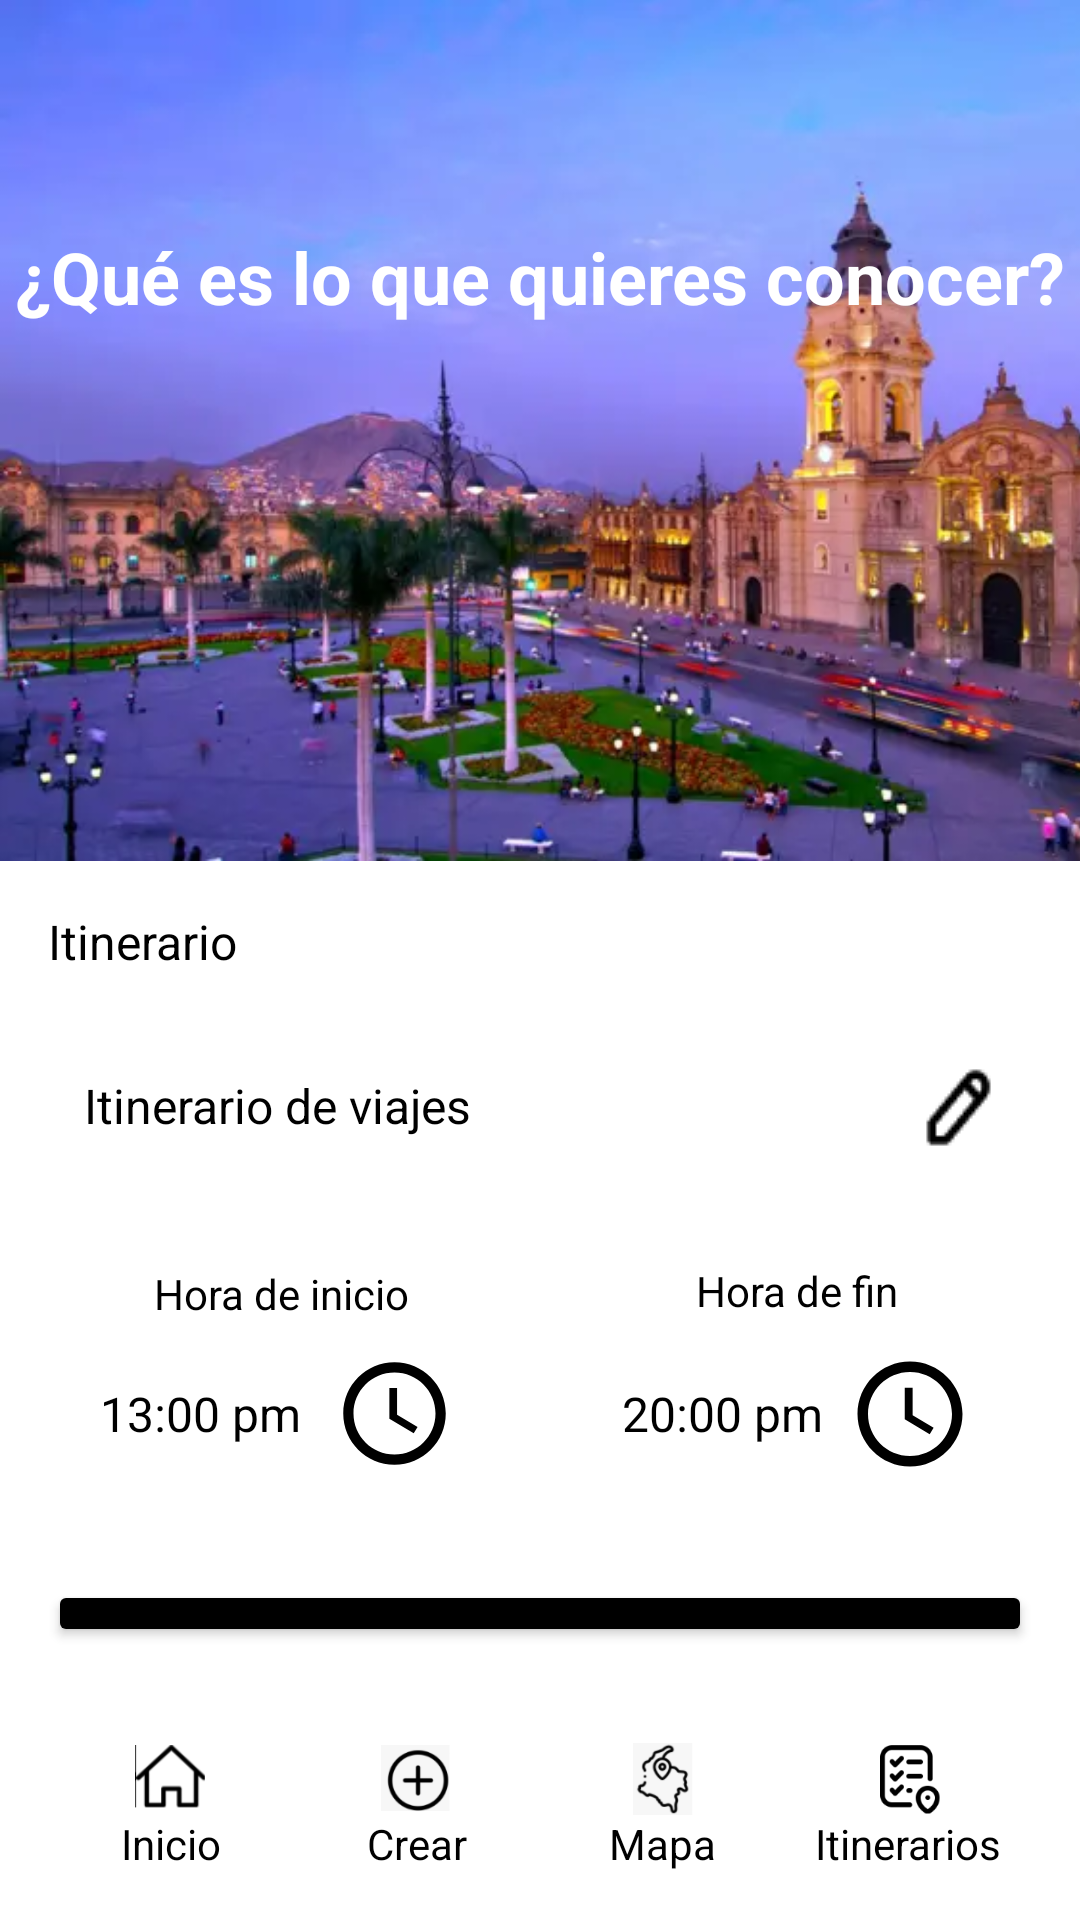

Screen size 1080px x 1920px. Icon name, then its center in pixels as (x=x, y=y):
Editar itinerario: (x=958, y=1107)
Reloj: (x=910, y=1414), (x=394, y=1413)
